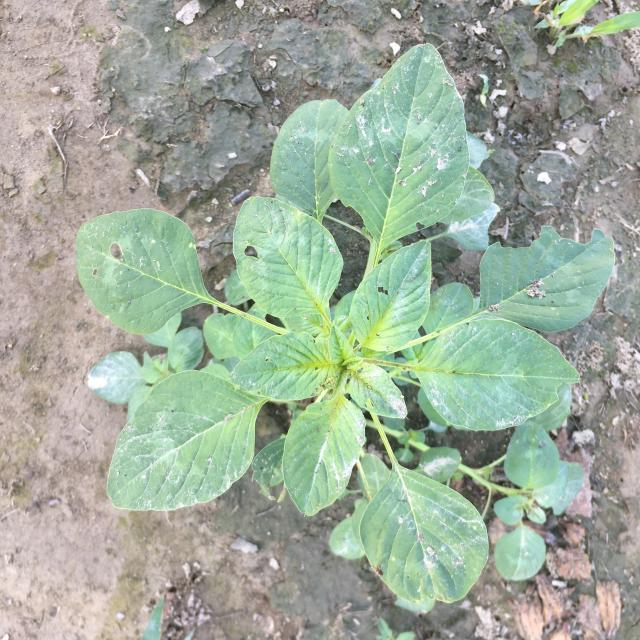PalmerAmaranth: (75, 43, 616, 614)
